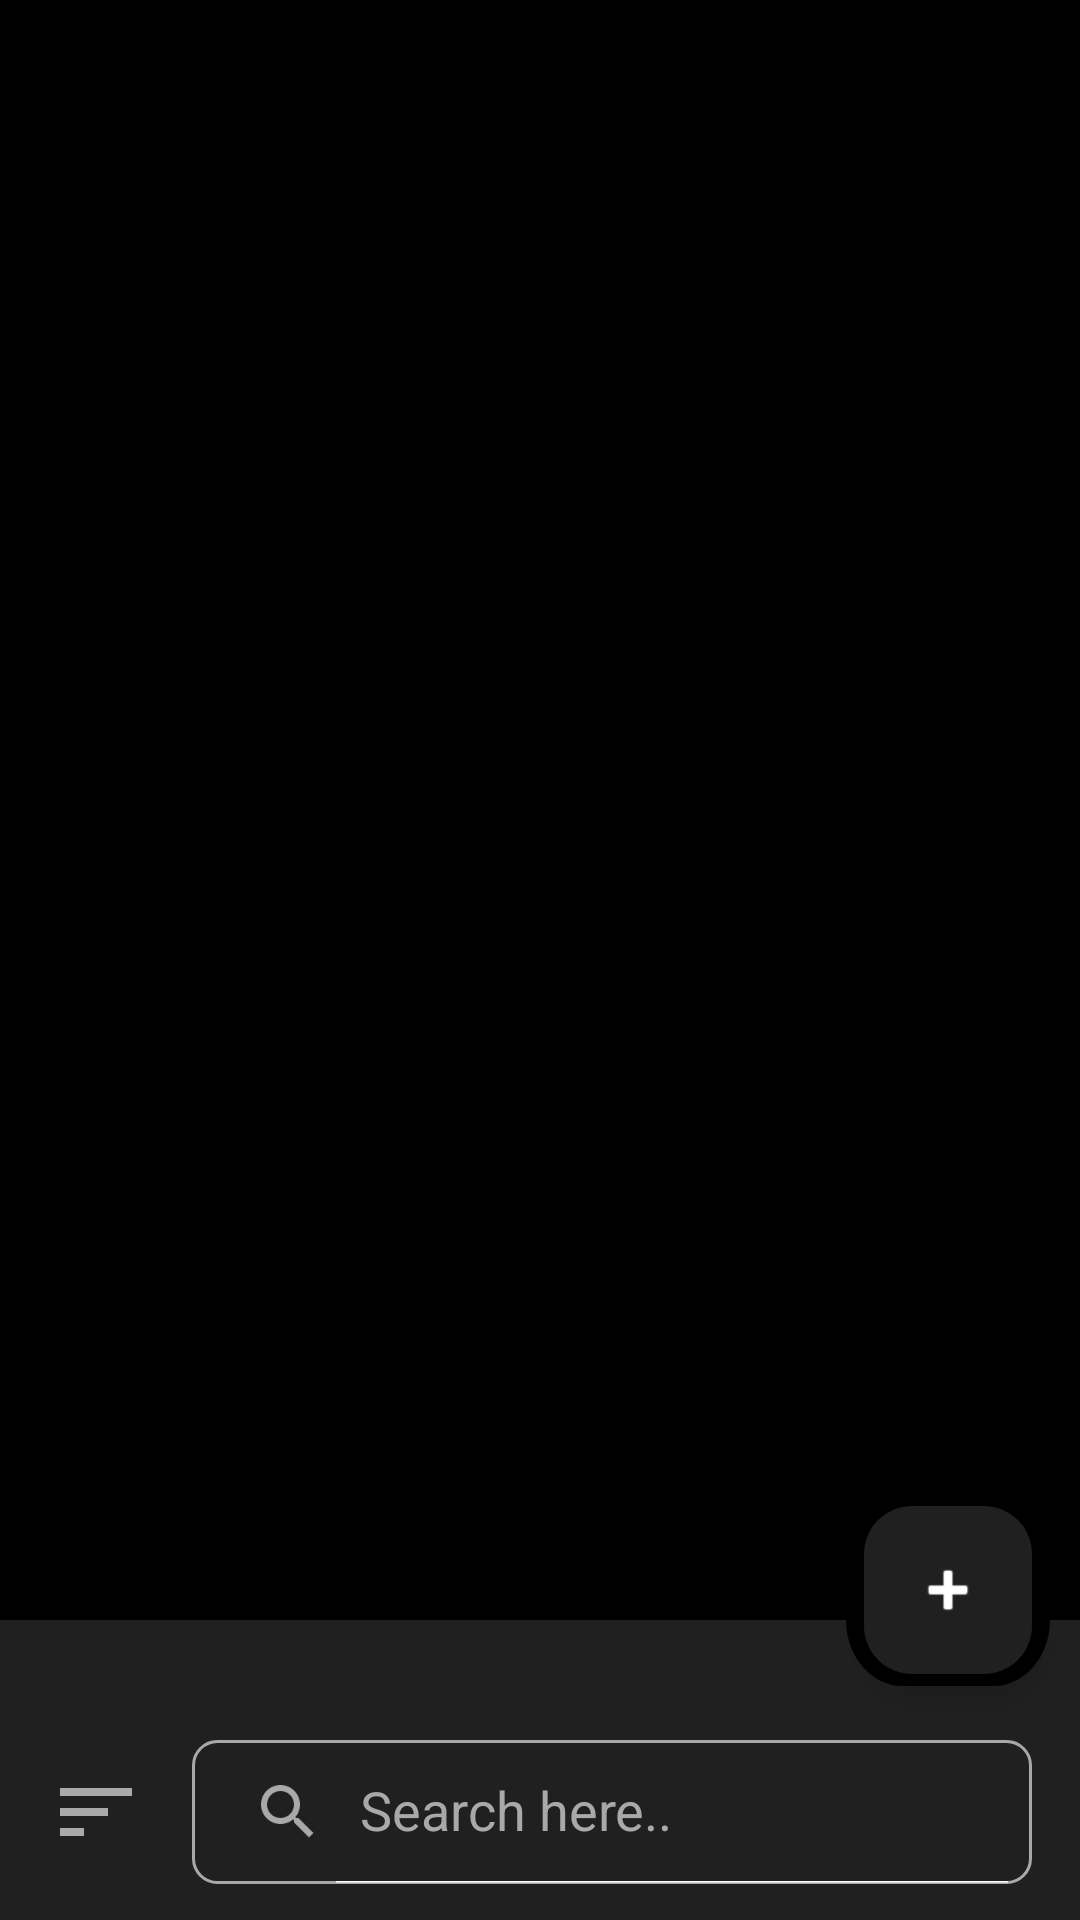

Screen size 1080px×1920px. Icon name, then its center in pixels as point (x, y):
sort: point (96, 1812)
